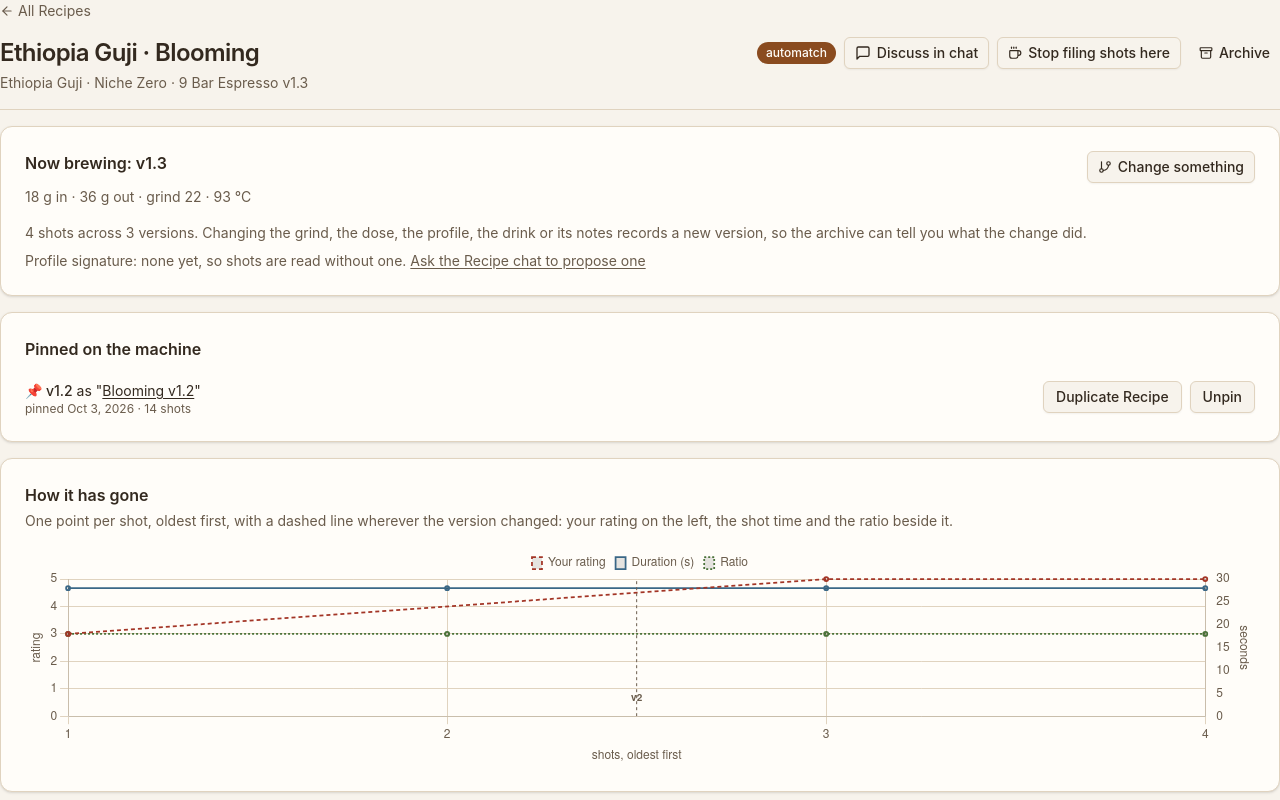
Test: the buttons › opens the dialog in place from a line of the Pinned card, for the pinned version
Step 1. Click the button with aria-label "Duplicate Recipe: v1.2" → (1112, 397), box top-left (1043, 381), bottom-right (1182, 413)
(page scrolled)
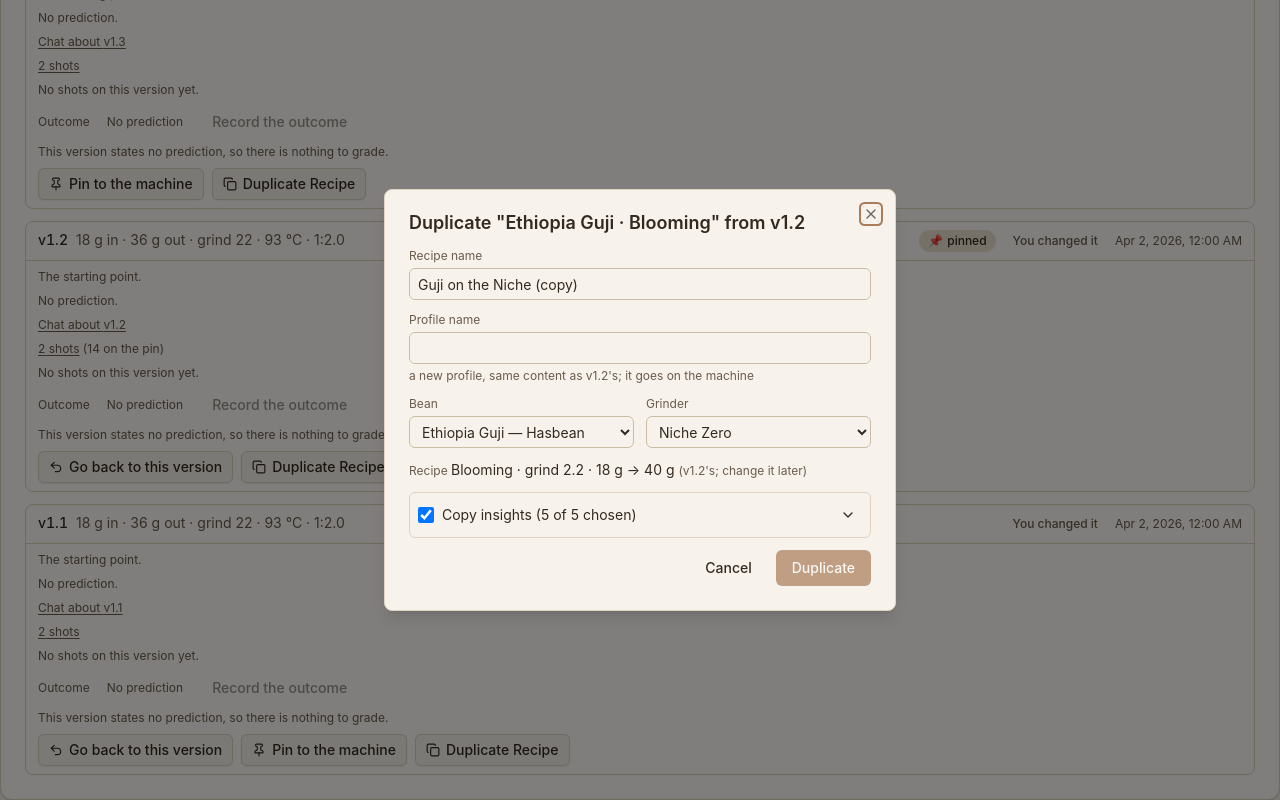
Now the dialog with test id "duplicate-dialog" shows "from v1.2", box top-left (384, 189), bottom-right (896, 611)
